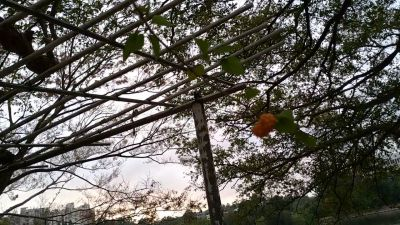eggs: (252, 112, 277, 138)
